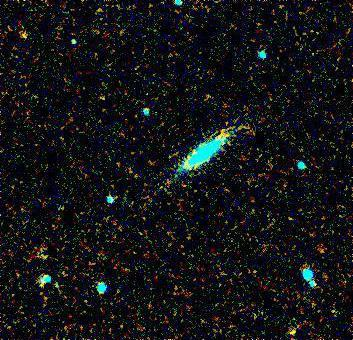star: (11, 21, 41, 51)
